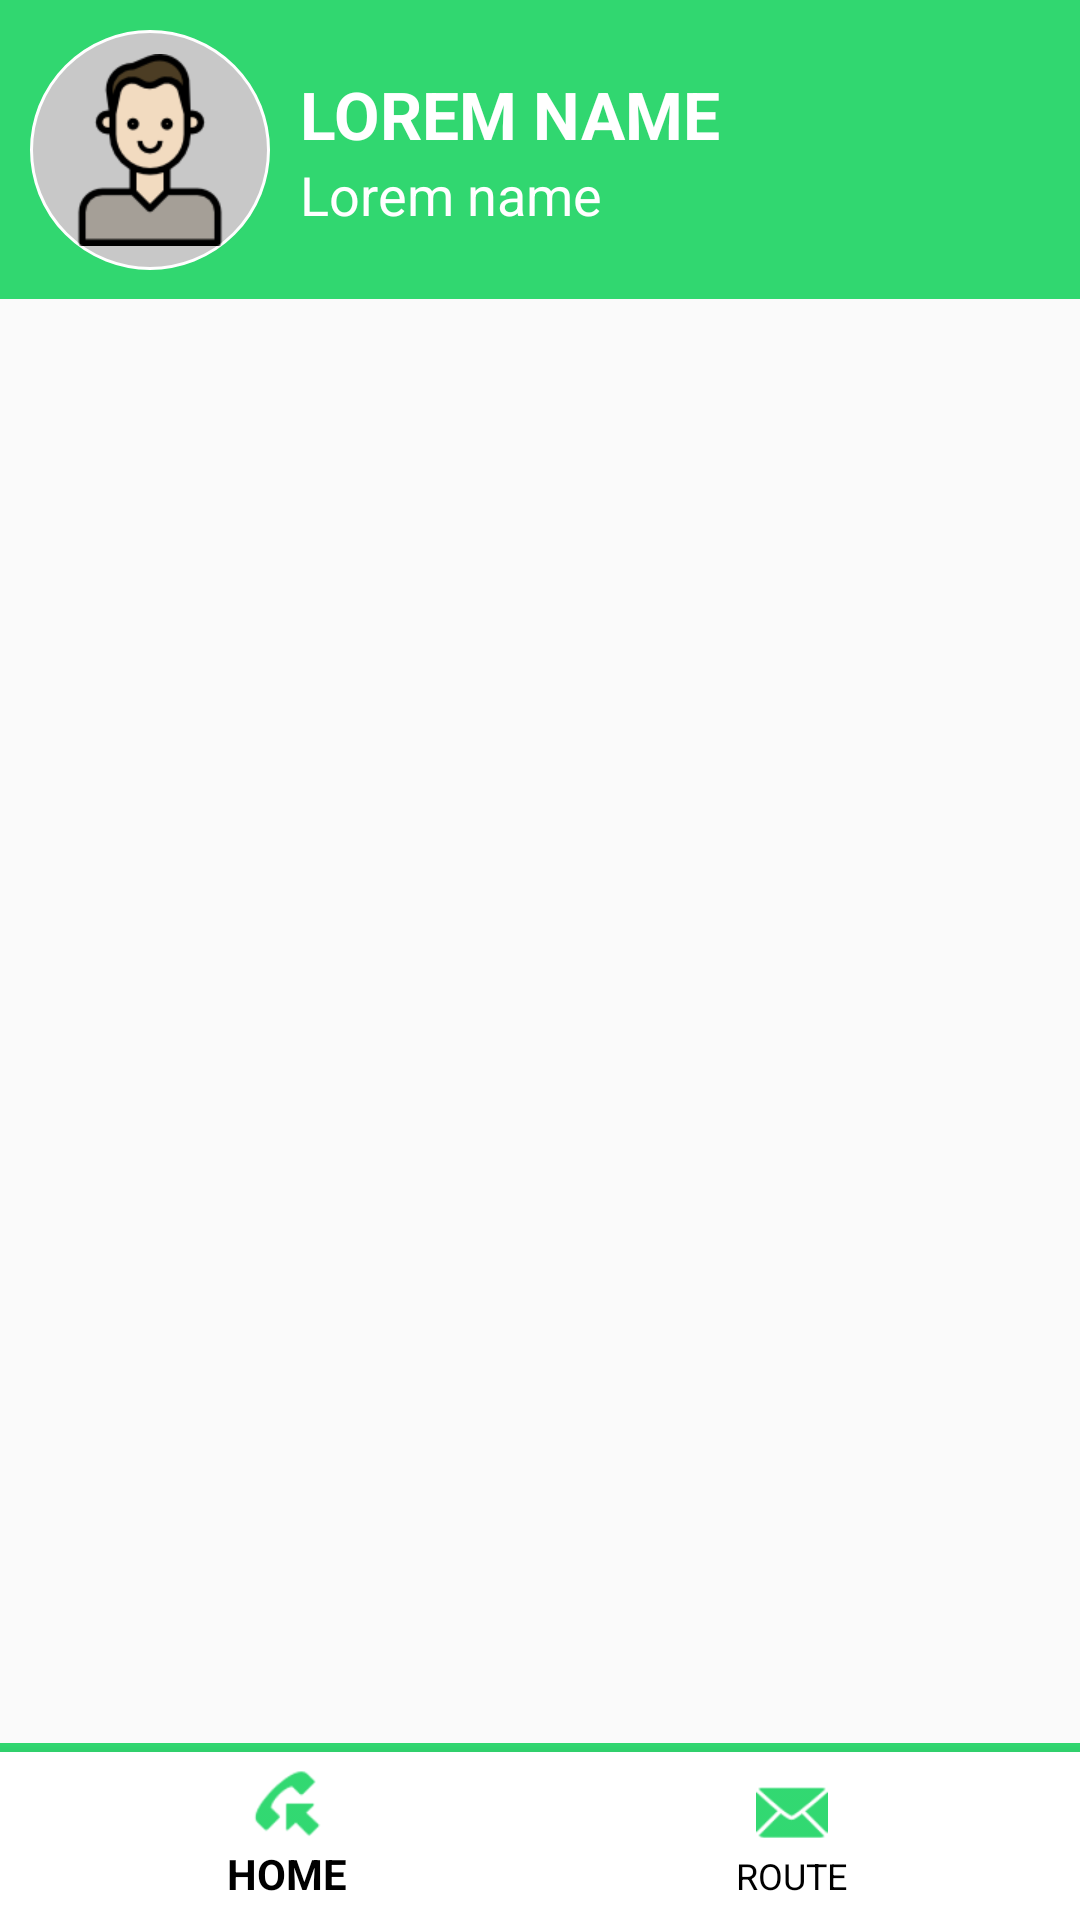

Screen size 1080×1920. Icon name, then its center in pixels as [x,y]:
hombre: [150,150]
